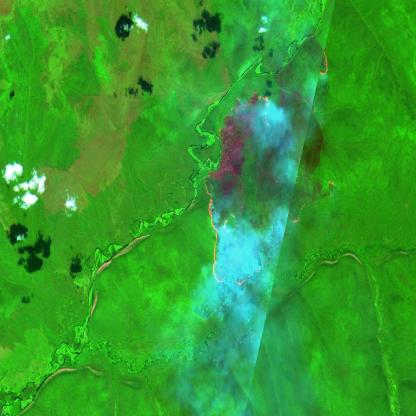fire: (202, 43, 338, 292)
